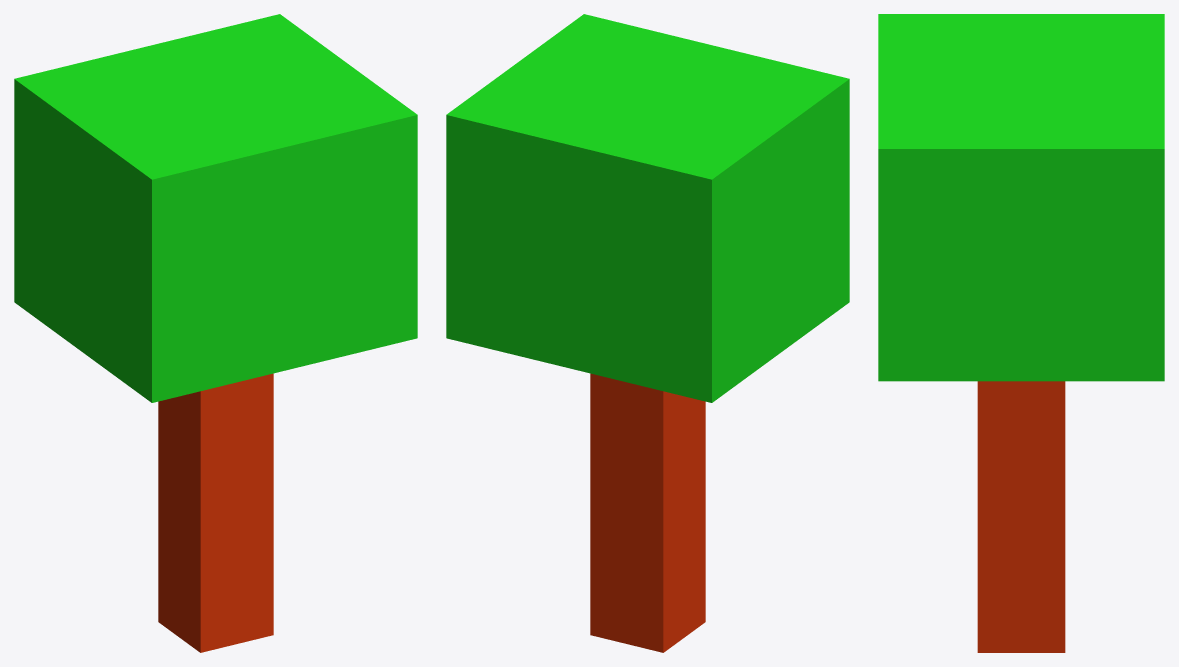
The model's file is ArbolXD.fbx.
3 renders of one model, left to right at view 1: azimuth 30°, elevation 25°; view 2: azimuth 150°, elevation 25°; view 3: azimuth 270°, elevation 25°, orthographic. The views are drawn at different scales.
Visible parts, largest first — view 1: Cube.001, Cube; view 2: Cube.001, Cube; view 3: Cube.001, Cube.
Part boxes in pixels (x1=…): Cube.001: x1=14, y1=14, x2=417, y2=402; Cube: x1=158, y1=373, x2=273, y2=652; Cube.001: x1=446, y1=14, x2=849, y2=402; Cube: x1=590, y1=373, x2=705, y2=652; Cube.001: x1=878, y1=14, x2=1164, y2=381; Cube: x1=977, y1=381, x2=1065, y2=652.
Size of the model in its own units: 726 by 1388 by 652.
